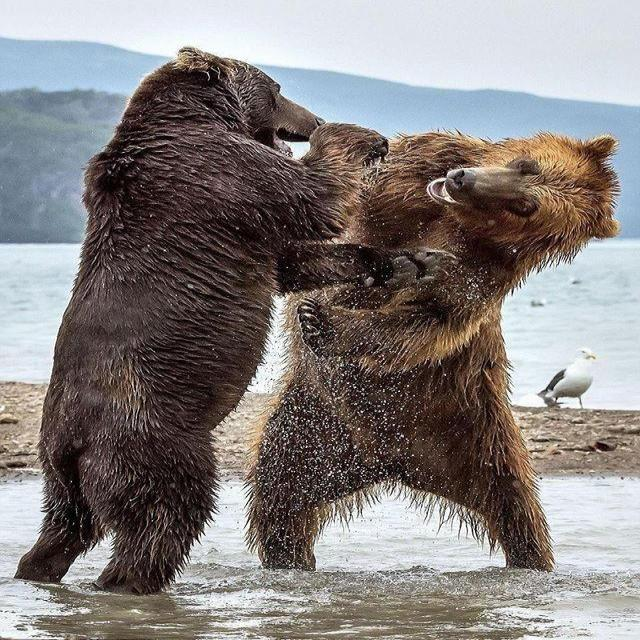Bear: (15, 50, 388, 598), (247, 124, 622, 574)
